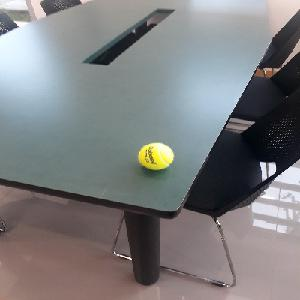Ball: (137, 143, 174, 171)
